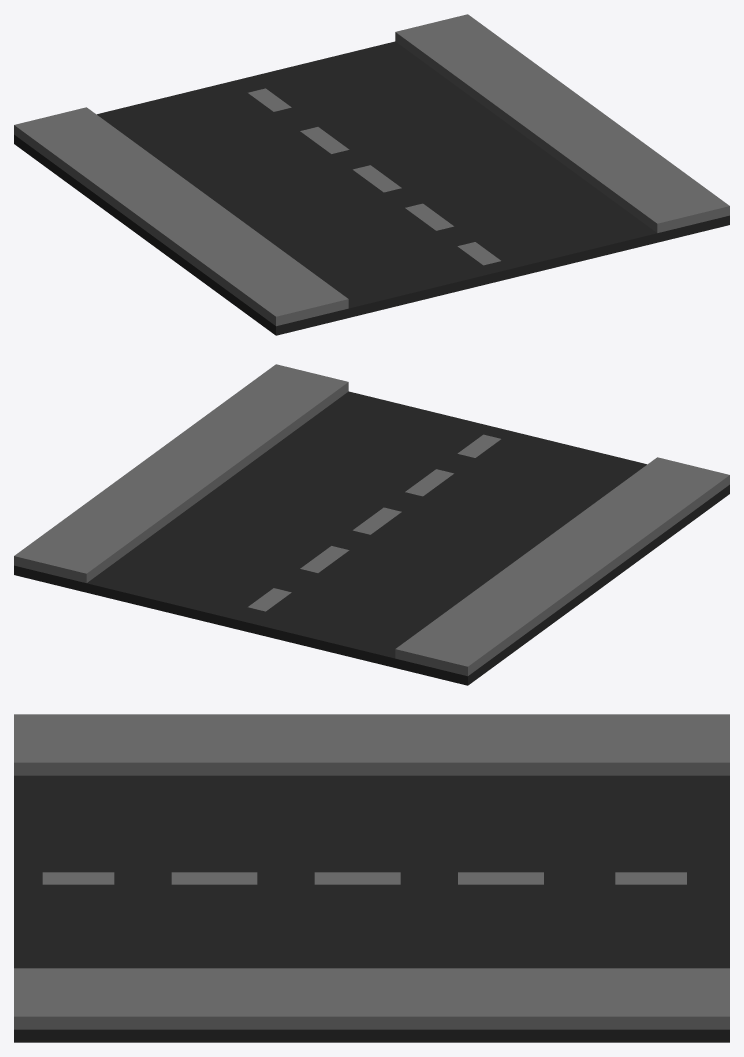
Rendered from road1.obj.
3 renders of one model, top to bottom at view 1: azimuth 30°, elevation 25°; view 2: azimuth 150°, elevation 25°; view 3: azimuth 270°, elevation 25°, orthographic. The views are drawn at different scales.
Bounding box in the file's own units: 5 × 0.2 × 5.
1 material, 1 textured.
